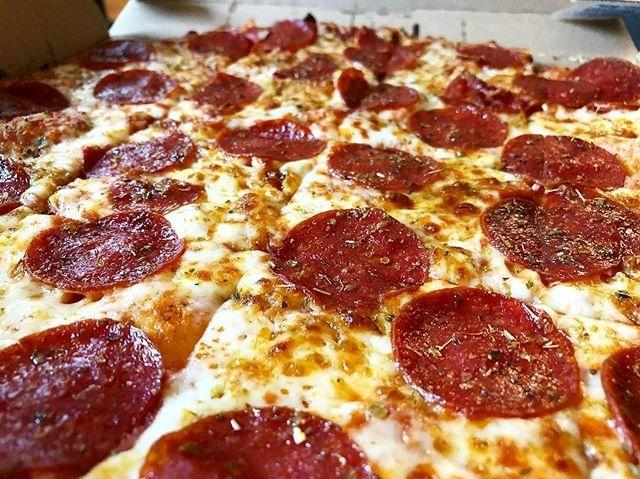Pepperoni: (0, 314, 168, 479), (385, 282, 577, 422), (142, 392, 376, 479), (275, 206, 436, 310), (479, 186, 640, 287), (17, 210, 185, 294), (490, 126, 638, 196), (321, 134, 454, 197), (518, 55, 640, 111), (214, 110, 331, 163), (602, 332, 640, 477), (404, 105, 516, 151), (434, 66, 537, 113), (329, 64, 424, 111), (345, 26, 435, 75), (105, 167, 215, 207), (96, 137, 200, 176), (88, 68, 175, 107), (189, 68, 268, 109), (257, 14, 332, 56), (448, 37, 543, 70), (0, 78, 72, 119), (62, 37, 158, 67), (185, 19, 253, 56), (0, 151, 35, 217), (272, 52, 342, 83)
Pizza: (0, 21, 640, 479)
